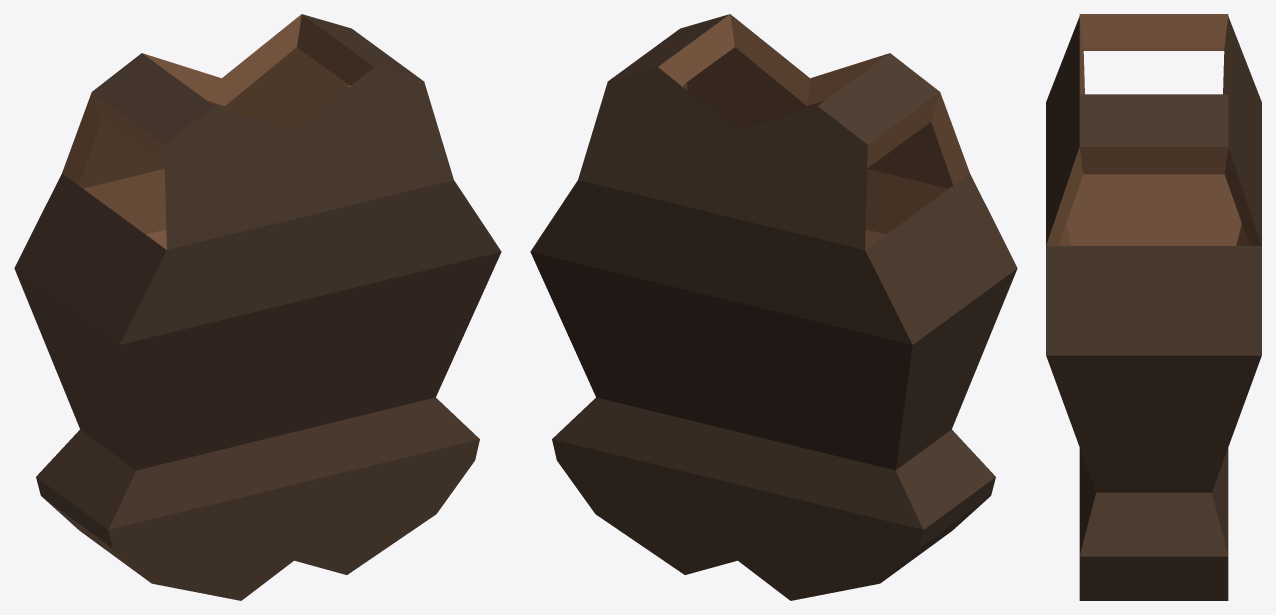
File: Armor_1_Brown.fbx
The picture shows the model from 3 angles, left to right: view 1: azimuth 30°, elevation 25°; view 2: azimuth 150°, elevation 25°; view 3: azimuth 270°, elevation 25°; orthographic projection. The views are drawn at different scales.
Visible parts, largest first — view 1: Armor_1_Brown_Part_1, Armor_1_Brown_Part_2; view 2: Armor_1_Brown_Part_1, Armor_1_Brown_Part_2; view 3: Armor_1_Brown_Part_1, Armor_1_Brown_Part_2.
Part boxes in pixels (x1,y1,x2,y2): Armor_1_Brown_Part_1: (14,14,501,600); Armor_1_Brown_Part_2: (62,14,373,249); Armor_1_Brown_Part_1: (530,14,1017,600); Armor_1_Brown_Part_2: (658,14,969,249); Armor_1_Brown_Part_1: (1046,16,1261,600); Armor_1_Brown_Part_2: (1046,14,1261,245).
Size of the model in its own units: 118 by 148 by 56.29.
